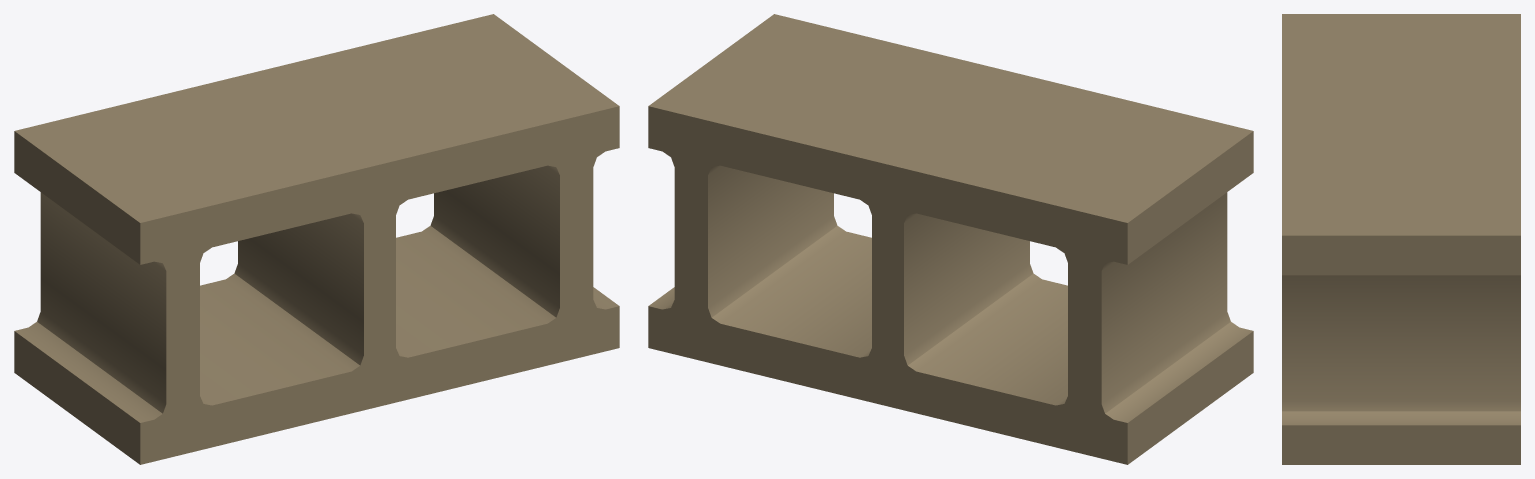
File: prop_cinderblock.glb
3 views of the same model, side by side, from view 1: azimuth 30°, elevation 25°; view 2: azimuth 150°, elevation 25°; view 3: azimuth 270°, elevation 25° (orthographic). The views are drawn at different scales.
Parts seen in each view (by area): view 1: CinderBlock; view 2: CinderBlock; view 3: CinderBlock.
Boxes of the visible parts, left/top/right/bottom form: CinderBlock: left=14, top=14, right=619, bottom=464; CinderBlock: left=648, top=14, right=1253, bottom=464; CinderBlock: left=1282, top=14, right=1520, bottom=464.
Bounding box in the file's own units: 0.4716 × 0.2274 × 0.2145.
1 material, 1 textured.
